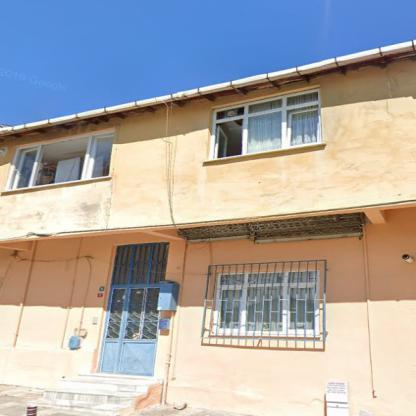door: (97, 285, 159, 374)
window: (209, 89, 321, 159), (211, 271, 316, 332), (8, 130, 115, 189), (113, 242, 167, 284)
